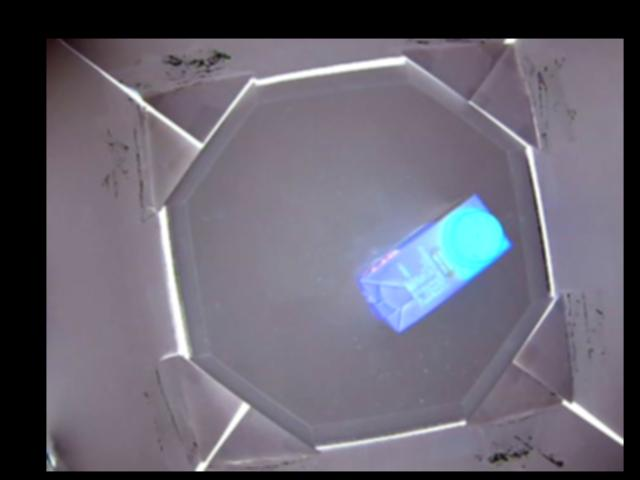Bottle: (357, 196, 514, 331)
